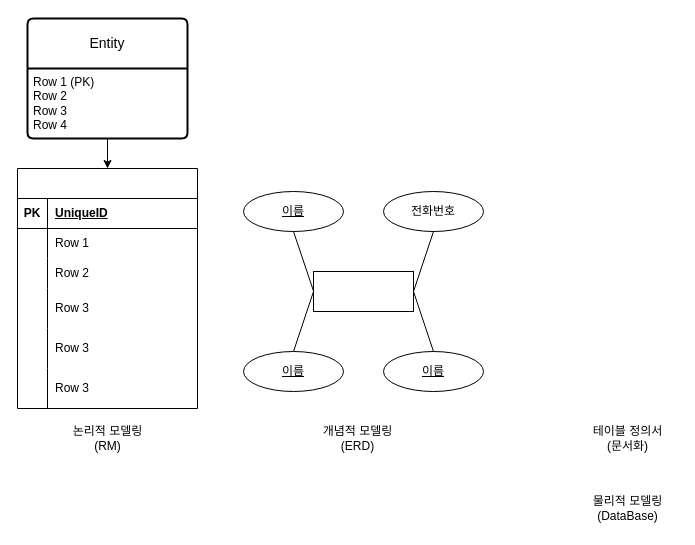
Image size: 695x545. Some labels were removed from this diagram. Here are the shapes that lost their labels. From the top down, the box of each, then its label:
(16, 168, 198, 408): Table
(312, 270, 414, 312): 학생
